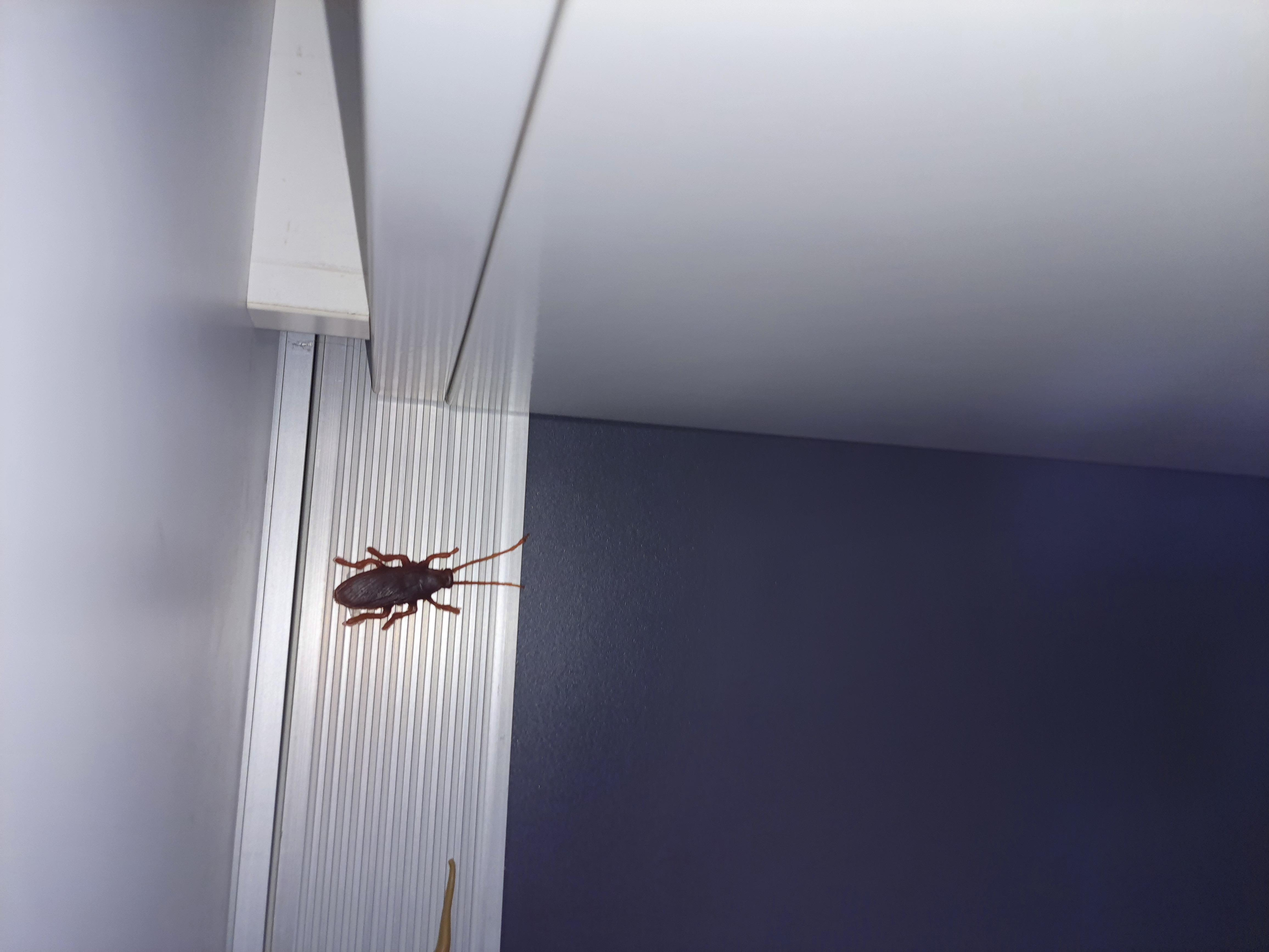cockroach: (414, 212, 574, 394)
